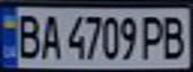0: (103, 12, 121, 61)
4: (63, 11, 84, 60)
7: (81, 11, 103, 61)
9: (118, 12, 142, 61)
A: (36, 11, 63, 60)
B: (157, 11, 190, 61), (12, 10, 42, 60)
P: (139, 11, 169, 61)
